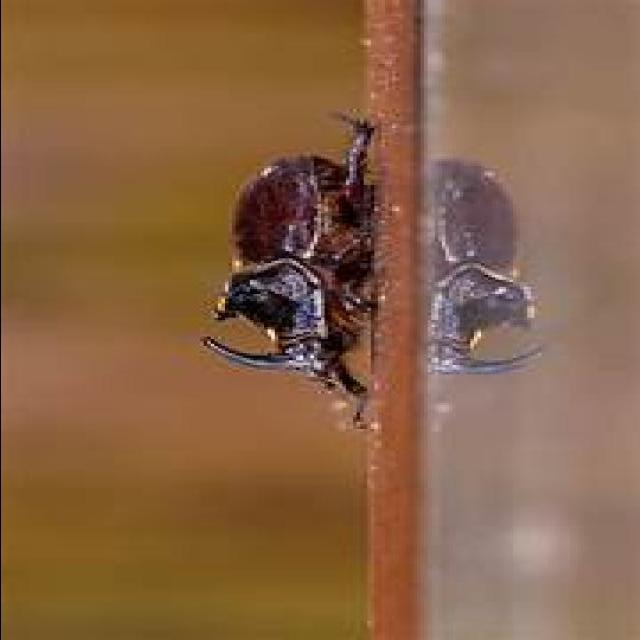Rhino-beetle: (186, 87, 410, 419)
